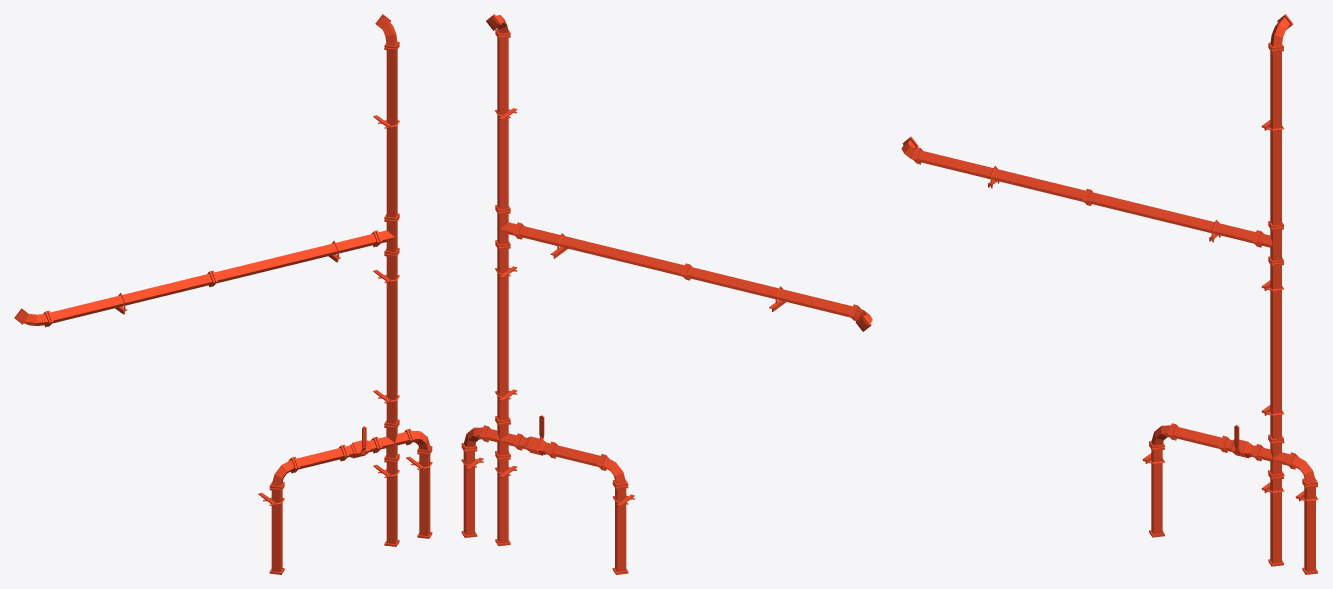
The model's file is SM_Pipe_Set_B_City.fbx.
3 renders of one model, left to right at view 1: azimuth 30°, elevation 25°; view 2: azimuth 150°, elevation 25°; view 3: azimuth 330°, elevation 25°, orthographic. The views are drawn at different scales.
Parts seen in each view (by area): view 1: SM_Pipe_Set_B_City; view 2: SM_Pipe_Set_B_City; view 3: SM_Pipe_Set_B_City.
Boxes of the visible parts, x1,y1,x2,y2 form: SM_Pipe_Set_B_City: (14, 14, 432, 574); SM_Pipe_Set_B_City: (461, 14, 872, 574); SM_Pipe_Set_B_City: (901, 14, 1318, 574).
Bounding box in the file's own units: 2.5 × 3.05 × 0.1605.
